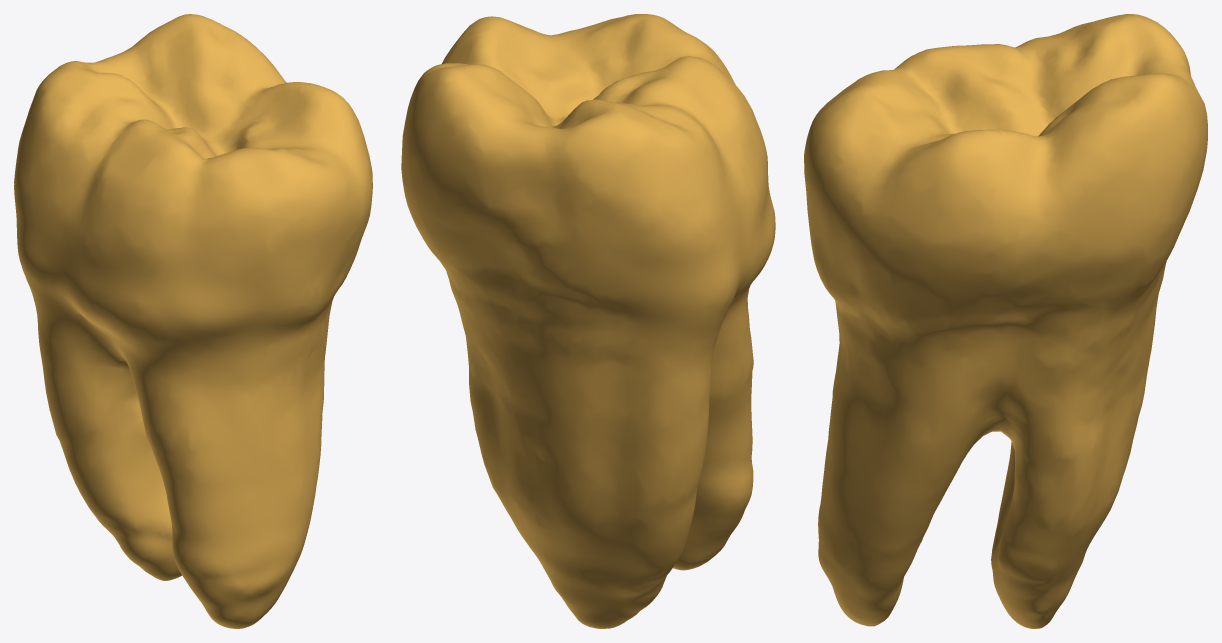
File: tooth.fbx
3 renders of one model, left to right at view 1: azimuth 30°, elevation 25°; view 2: azimuth 150°, elevation 25°; view 3: azimuth 270°, elevation 25°, orthographic. The views are drawn at different scales.
Visible parts, largest first — view 1: mmGroup0; view 2: mmGroup0; view 3: mmGroup0.
Boxes of the visible parts, x1,y1,x2,y2 form: mmGroup0: (14,14,372,628); mmGroup0: (401,14,775,628); mmGroup0: (804,14,1207,628).
Size of the model in its own units: 11.4 by 18.82 by 11.64.
Materials: 1 (1 with a texture image).
